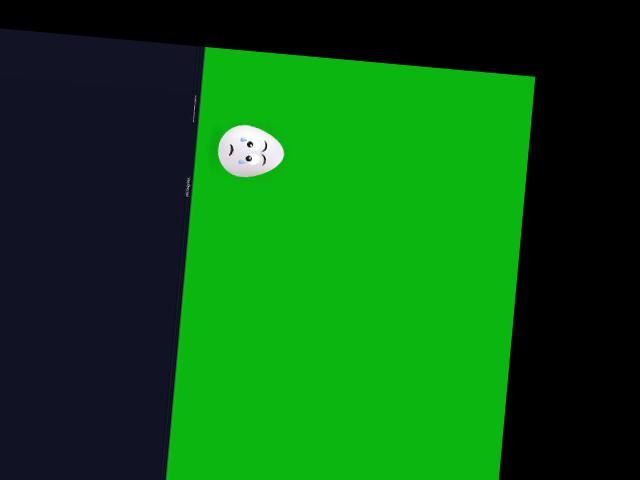egg: (215, 122, 285, 180)
